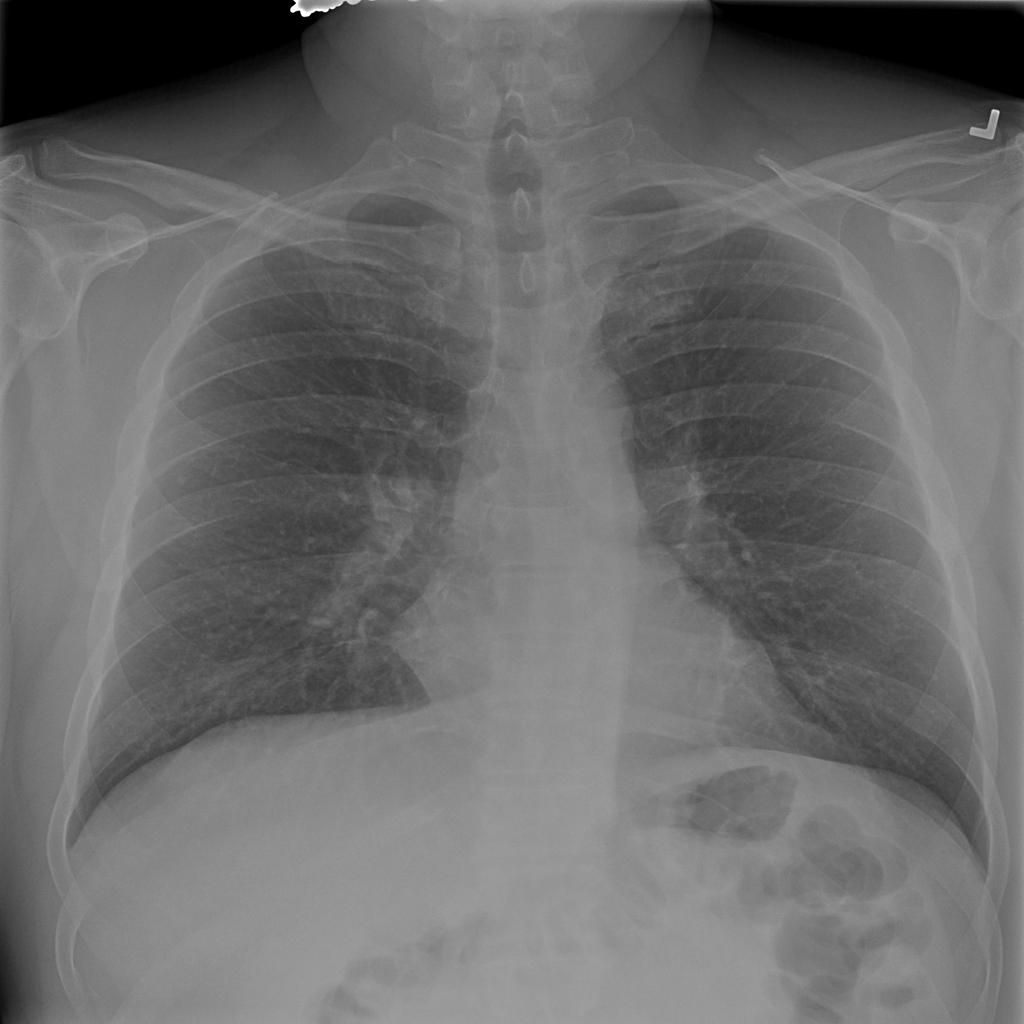nodule: (156, 454, 209, 501)
